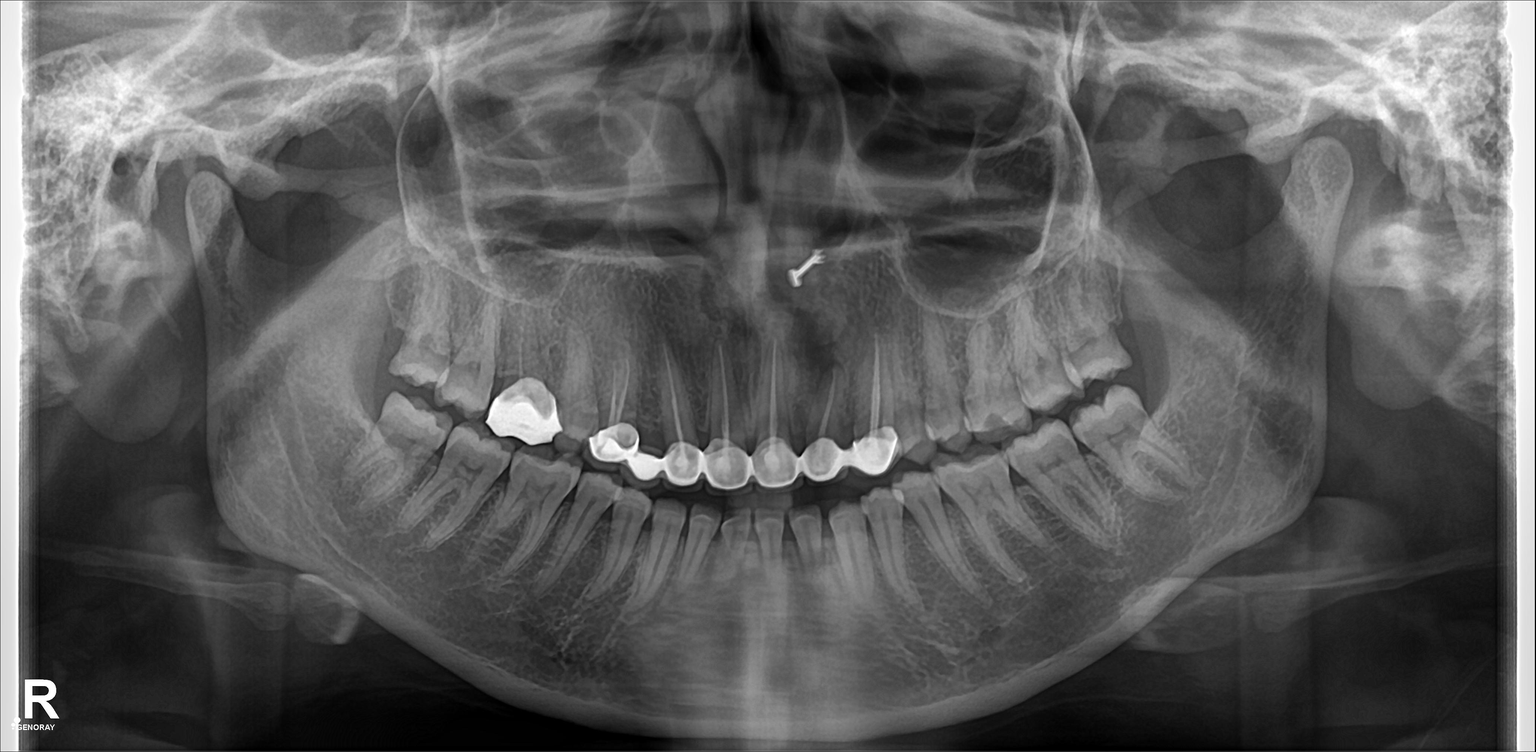Endodontically Treated Tooth: (704, 337, 760, 492), (503, 303, 560, 445), (659, 329, 706, 490), (857, 315, 892, 487), (801, 346, 837, 483), (764, 342, 794, 492), (594, 339, 632, 456)
